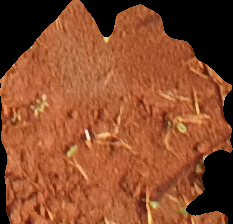soil: (1, 1, 232, 224)
